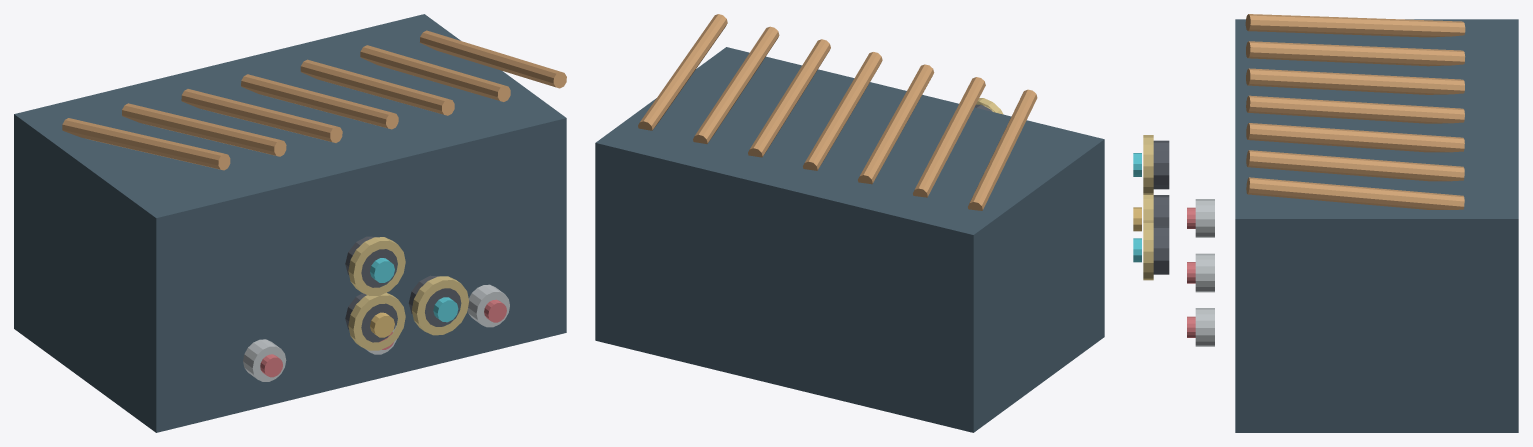
The model's file is 63_L82_GroundReturnFaultSwitch.glb.
3 views of the same model, side by side, from view 1: azimuth 30°, elevation 25°; view 2: azimuth 150°, elevation 25°; view 3: azimuth 270°, elevation 25° (orthographic). The views are drawn at different scales.
Visible parts, largest first — view 1: GroundReturnFaultSwitch_Node_0000, GroundReturnFaultSwitch_Node_0001, GroundReturnFaultSwitch_Node_0002, GroundReturnFaultSwitch_Node_0003, GroundReturnFaultSwitch_Node_0004, GroundReturnFaultSwitch_Node_0005, GroundReturnFaultSwitch_Node_0006, GroundReturnFaultSwitch_Node_0007, GroundReturnFaultSwitch_Node_0021, GroundReturnFaultSwitch_Node_0018, GroundReturnFaultSwitch_Node_0015, GroundReturnFaultSwitch_Node_0008 (+4 smaller); view 2: GroundReturnFaultSwitch_Node_0000, GroundReturnFaultSwitch_Node_0007, GroundReturnFaultSwitch_Node_0006, GroundReturnFaultSwitch_Node_0005, GroundReturnFaultSwitch_Node_0004, GroundReturnFaultSwitch_Node_0003, GroundReturnFaultSwitch_Node_0002, GroundReturnFaultSwitch_Node_0001; view 3: GroundReturnFaultSwitch_Node_0000, GroundReturnFaultSwitch_Node_0001, GroundReturnFaultSwitch_Node_0006, GroundReturnFaultSwitch_Node_0005, GroundReturnFaultSwitch_Node_0004, GroundReturnFaultSwitch_Node_0003, GroundReturnFaultSwitch_Node_0007, GroundReturnFaultSwitch_Node_0002, GroundReturnFaultSwitch_Node_0020, GroundReturnFaultSwitch_Node_0017, GroundReturnFaultSwitch_Node_0010, GroundReturnFaultSwitch_Node_0008 (+4 smaller).
Boxes of the visible parts, x1,y1,x2,y2 form: GroundReturnFaultSwitch_Node_0000: (14,14,566,432); GroundReturnFaultSwitch_Node_0001: (62,118,230,170); GroundReturnFaultSwitch_Node_0002: (122,103,286,156); GroundReturnFaultSwitch_Node_0003: (181,89,342,142); GroundReturnFaultSwitch_Node_0004: (241,74,398,129); GroundReturnFaultSwitch_Node_0005: (300,59,454,115); GroundReturnFaultSwitch_Node_0006: (360,45,510,101); GroundReturnFaultSwitch_Node_0007: (420,30,566,88); GroundReturnFaultSwitch_Node_0021: (348,237,405,295); GroundReturnFaultSwitch_Node_0018: (412,276,469,335); GroundReturnFaultSwitch_Node_0015: (348,292,405,350); GroundReturnFaultSwitch_Node_0008: (243,339,286,381); GroundReturnFaultSwitch_Node_0000: (595,47,1104,432); GroundReturnFaultSwitch_Node_0007: (638,14,727,130); GroundReturnFaultSwitch_Node_0006: (693,26,779,143); GroundReturnFaultSwitch_Node_0005: (748,39,830,157); GroundReturnFaultSwitch_Node_0004: (803,52,882,170); GroundReturnFaultSwitch_Node_0003: (858,64,934,184); GroundReturnFaultSwitch_Node_0002: (913,77,985,197); GroundReturnFaultSwitch_Node_0001: (968,89,1037,210); GroundReturnFaultSwitch_Node_0000: (1235,19,1518,432); GroundReturnFaultSwitch_Node_0001: (1245,14,1465,37); GroundReturnFaultSwitch_Node_0006: (1246,150,1464,181); GroundReturnFaultSwitch_Node_0005: (1246,123,1464,152); GroundReturnFaultSwitch_Node_0004: (1246,95,1464,123); GroundReturnFaultSwitch_Node_0003: (1246,68,1464,94); GroundReturnFaultSwitch_Node_0007: (1246,177,1464,209); GroundReturnFaultSwitch_Node_0002: (1246,41,1465,66); GroundReturnFaultSwitch_Node_0020: (1153,140,1169,189); GroundReturnFaultSwitch_Node_0017: (1153,226,1169,274); GroundReturnFaultSwitch_Node_0010: (1195,253,1214,292); GroundReturnFaultSwitch_Node_0008: (1195,199,1214,237).
Bounding box in the file's own units: 1.12 × 0.6544 × 0.8975.
